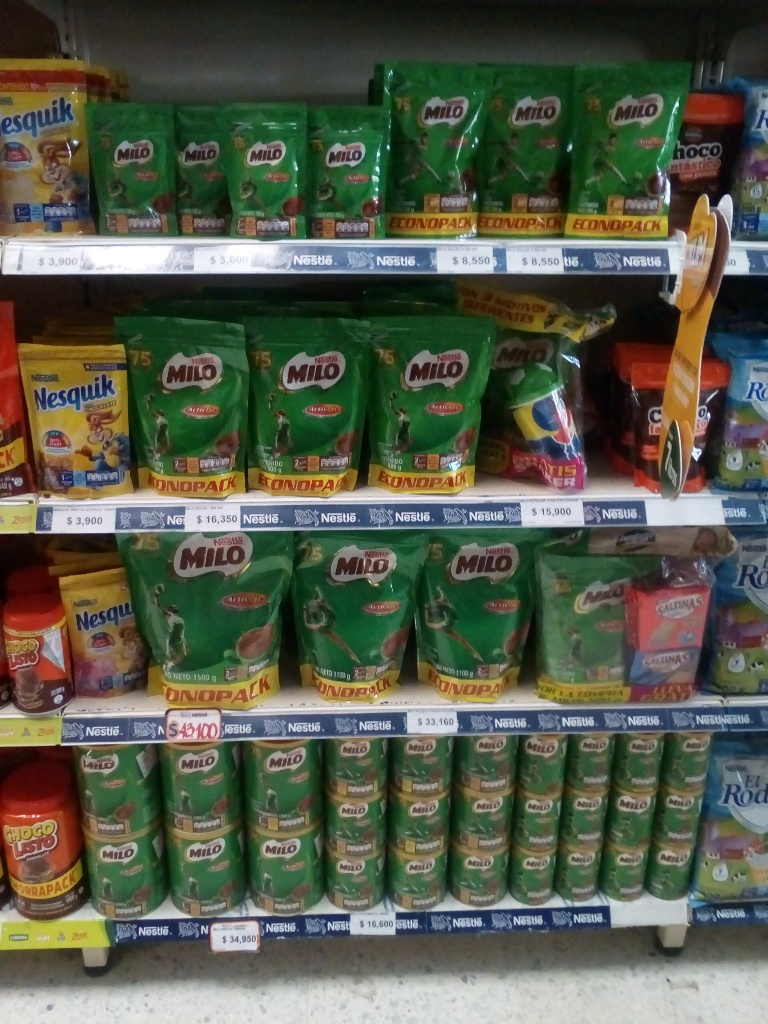COL0170103TRR00100: (1, 755, 85, 916)
COL0170103TRR30000: (1, 588, 66, 713)
COL0170203DYP10000: (83, 106, 175, 236)
COL0170203DYP25000: (385, 52, 491, 238)
COL0170203DYP50000: (123, 310, 260, 500)
COL0170203LAT20000: (512, 729, 568, 798)
COL0170203LAT40000: (329, 738, 383, 800)
COL0170303DYP20000: (22, 338, 125, 491)
COL0170305DYP20000: (63, 546, 136, 706)
